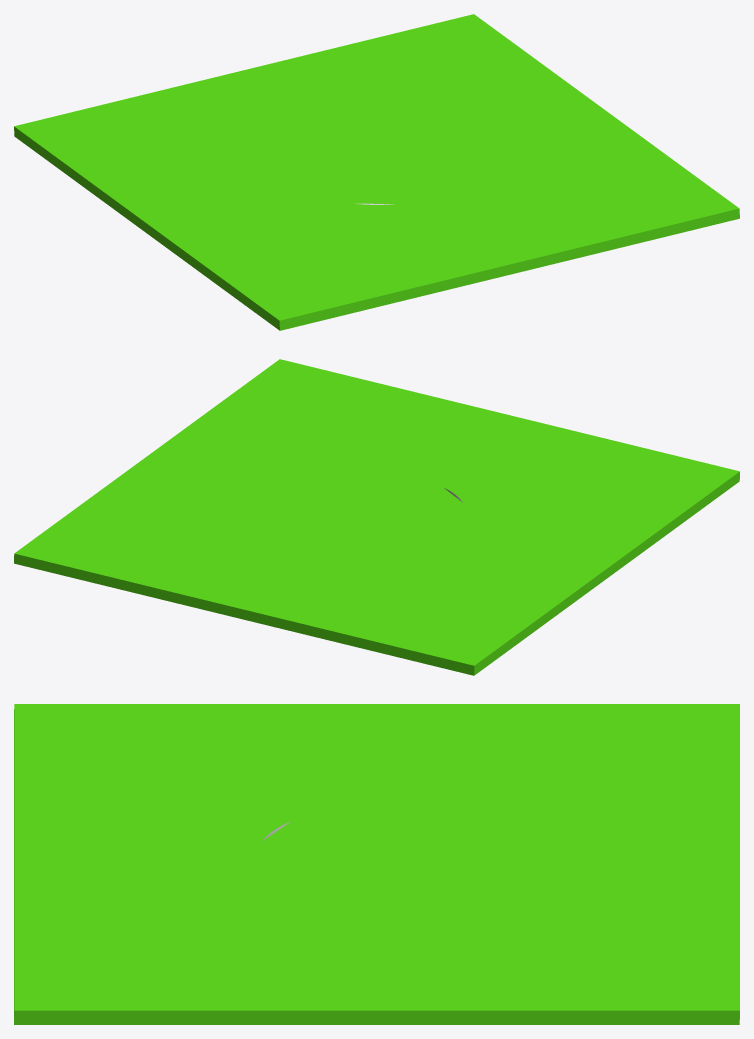
The model's file is Green Area.fbx.
3 renders of one model, top to bottom at view 1: azimuth 30°, elevation 25°; view 2: azimuth 150°, elevation 25°; view 3: azimuth 270°, elevation 25°, orthographic. The views are drawn at different scales.
Parts seen in each view (by area): view 1: Tutorial Level; view 2: Tutorial Level; view 3: Tutorial Level.
Boxes of the visible parts, box(x1,y1,x2,y2) form: Tutorial Level: box(14, 14, 739, 330); Tutorial Level: box(14, 359, 739, 675); Tutorial Level: box(14, 704, 739, 1024).
Bounding box in the file's own units: 11110 × 235 × 11106.
